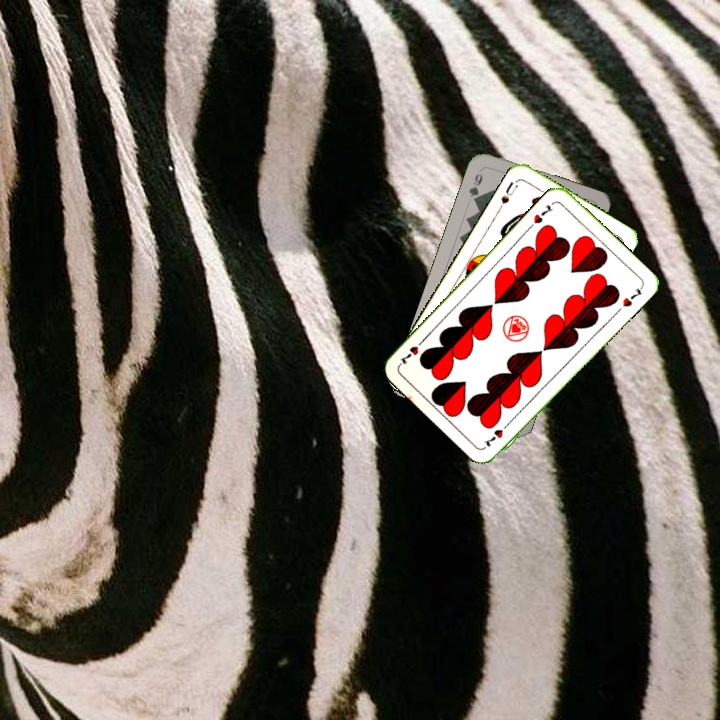G9: (465, 165, 485, 206)
H7: (480, 418, 513, 449), (529, 201, 555, 226)
SU: (494, 177, 520, 213)
